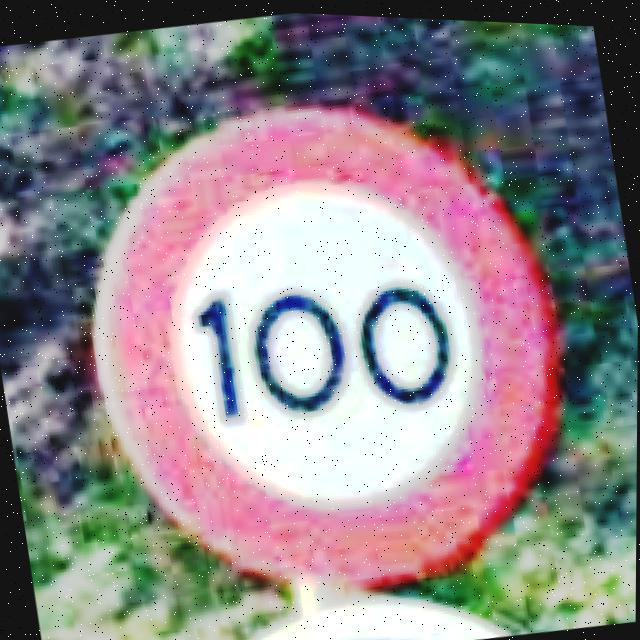max100: (53, 57, 597, 630)
